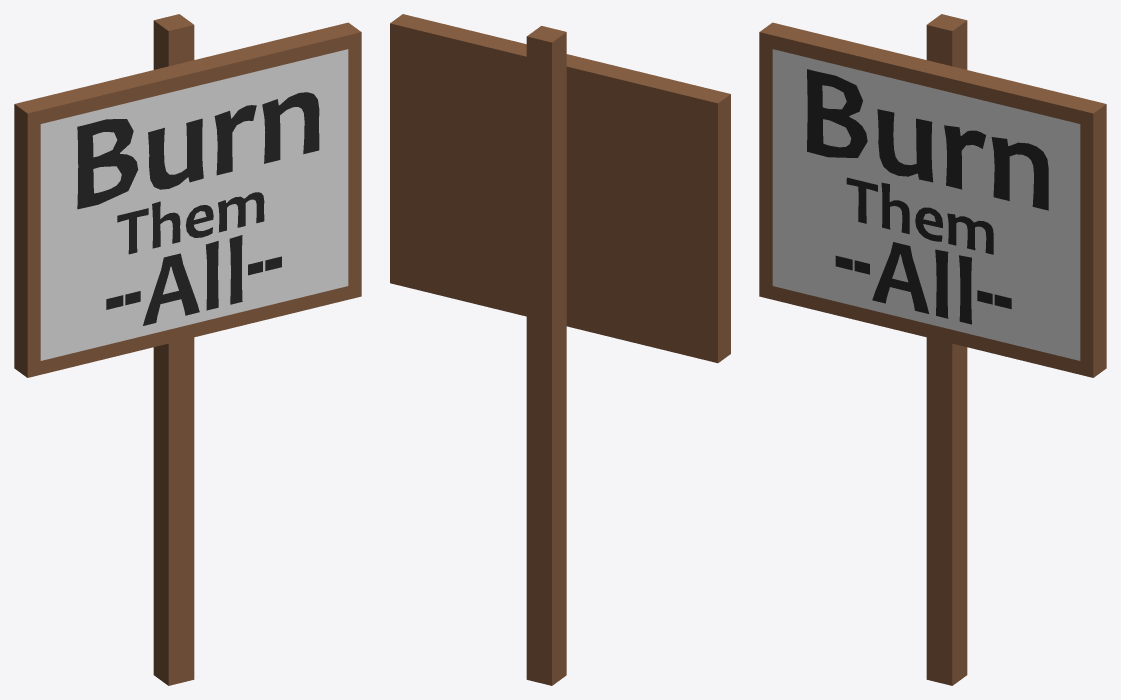
File: Burn them all.fbx
3 renders of one model, left to right at view 1: azimuth 30°, elevation 25°; view 2: azimuth 150°, elevation 25°; view 3: azimuth 330°, elevation 25°, orthographic.
Parts seen in each view (by area): view 1: Plane.004; view 2: Plane.004; view 3: Plane.004.
Part boxes in pixels (x1=…): Plane.004: x1=14, y1=14, x2=361, y2=685; Plane.004: x1=390, y1=14, x2=730, y2=685; Plane.004: x1=759, y1=14, x2=1106, y2=685.
Bounding box in the file's own units: 68.59 × 128 × 10.39.
